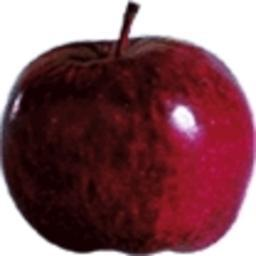apple: (1, 27, 256, 254)
